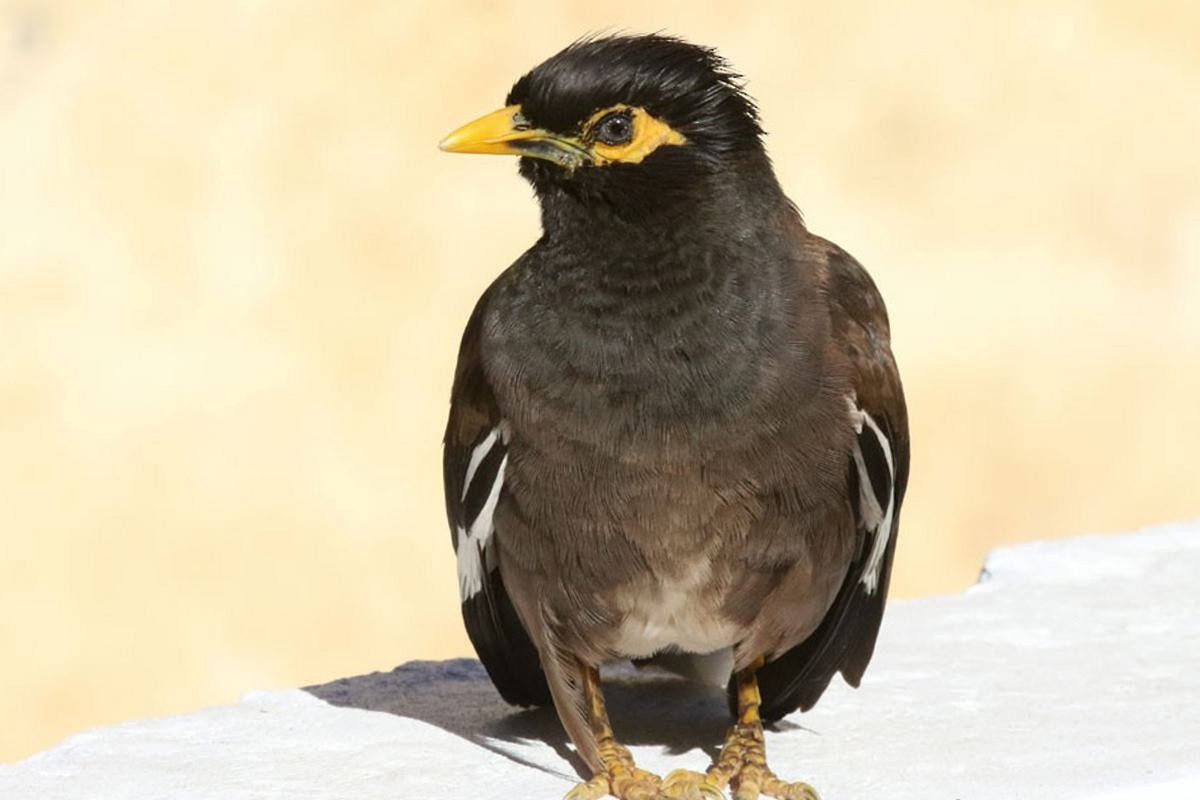myna: (449, 54, 960, 735)
